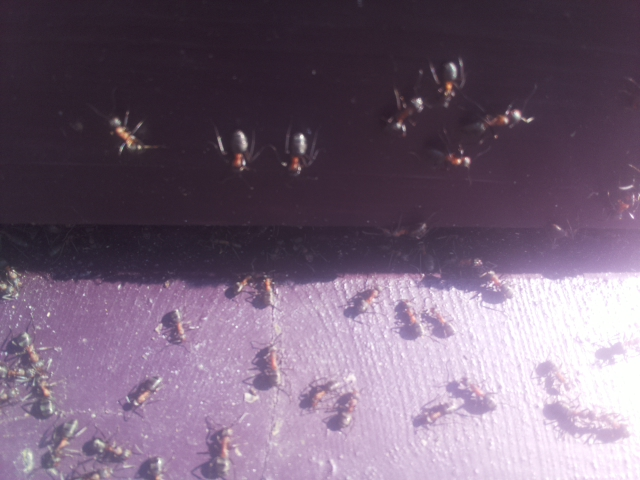ant: (211, 115, 264, 183), (32, 413, 90, 475), (98, 105, 163, 160), (113, 368, 172, 421), (426, 48, 471, 117), (382, 84, 431, 140), (276, 123, 321, 182), (472, 104, 535, 138), (421, 138, 476, 172), (86, 433, 135, 464), (211, 424, 238, 480), (458, 377, 501, 412), (391, 298, 424, 339), (426, 301, 456, 345), (481, 264, 512, 302), (0, 261, 27, 303), (220, 272, 257, 302), (165, 303, 189, 348), (350, 284, 383, 316), (261, 345, 286, 387), (334, 389, 358, 430), (141, 454, 171, 480), (260, 271, 279, 309)
